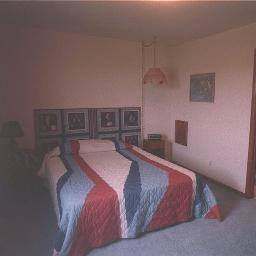Cama: (45, 138, 207, 239)
